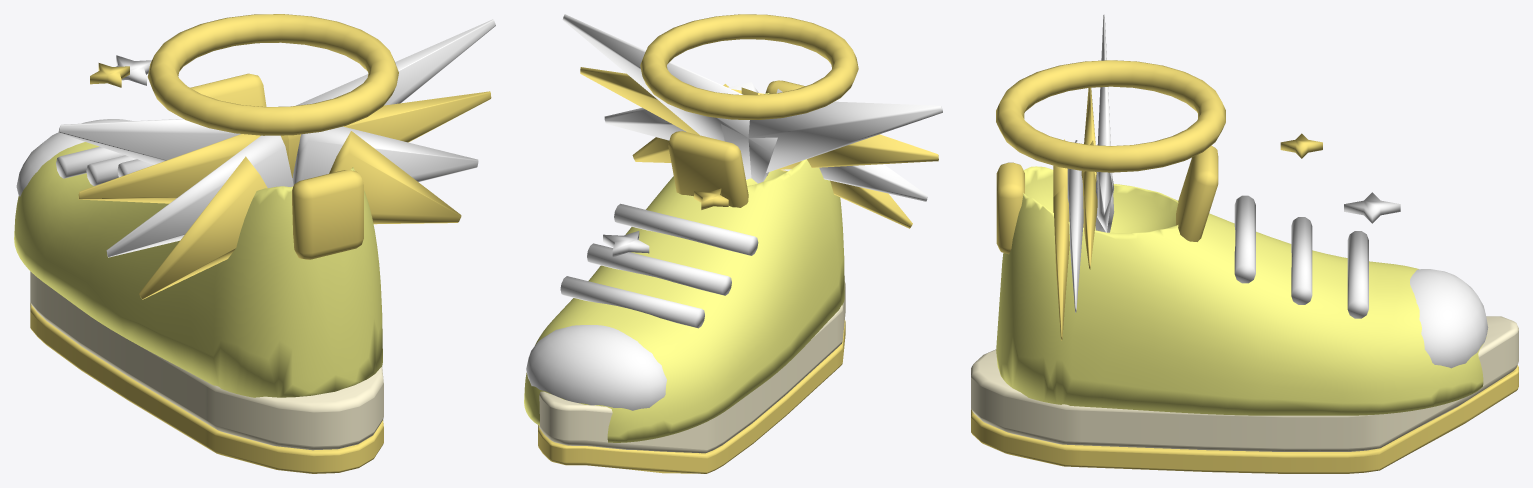
Rendered from shoe_radiant.fbx.
3 views of the same model, side by side, from view 1: azimuth 30°, elevation 25°; view 2: azimuth 150°, elevation 25°; view 3: azimuth 270°, elevation 25° (orthographic). The views are drawn at different scales.
Visible parts, largest first — view 1: shoe_radiant; view 2: shoe_radiant; view 3: shoe_radiant.
Boxes of the visible parts, box(x1,y1,x2,y2) form: shoe_radiant: box(14, 14, 495, 473); shoe_radiant: box(524, 14, 942, 473); shoe_radiant: box(971, 14, 1518, 473).
Size of the model in its own units: 3.29 by 2.55 by 3.88.
1 material, 1 textured.
